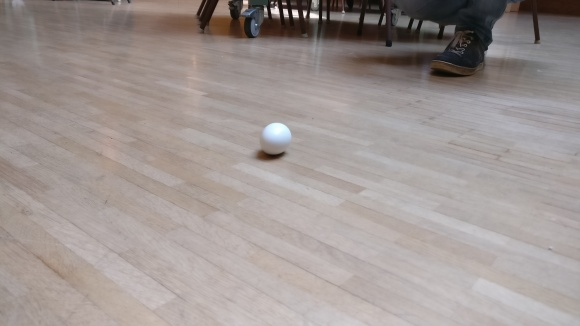egg: (259, 122, 292, 156)
